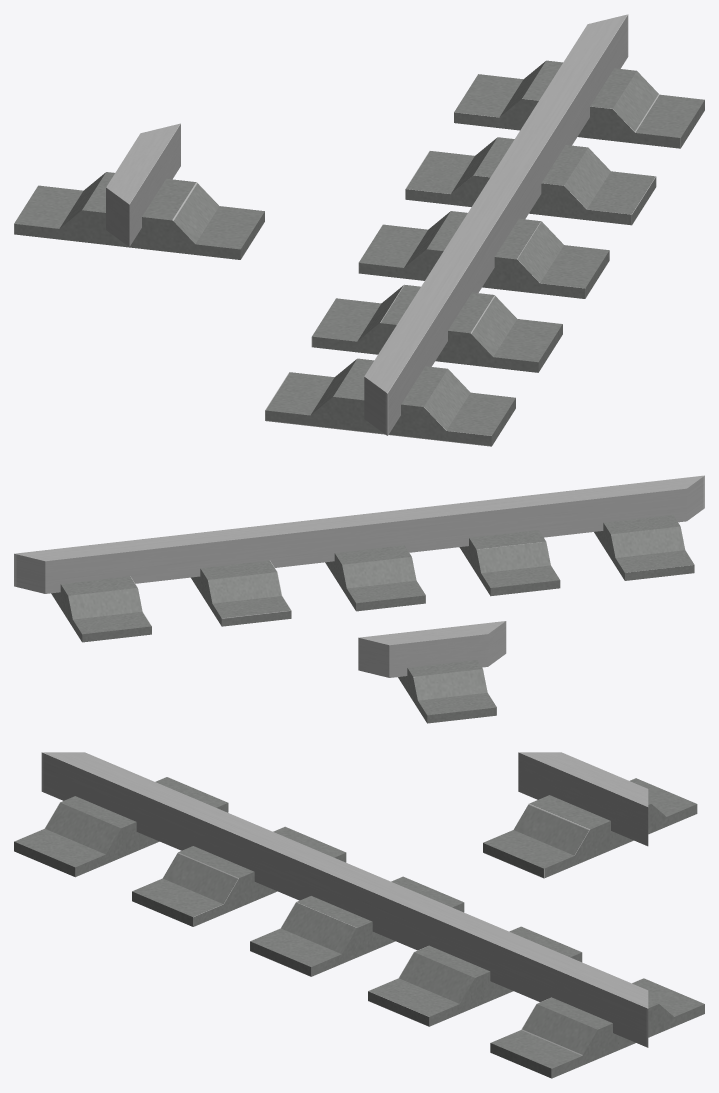
The model's file is rail_ns_turned.obj.
The picture shows the model from 3 angles, top to bottom: view 1: azimuth 30°, elevation 25°; view 2: azimuth 150°, elevation 25°; view 3: azimuth 270°, elevation 25°; orthographic projection. The views are drawn at different scales.
Visible parts, largest first — view 1: r1, b6, b1, b4, b3, b2, b5, r2; view 2: r1, r2, b2, b4, b5, b3, b1, b6; view 3: r1, b6, b5, b2, b3, b4, b1, r2.
Boxes of the visible parts, x1,y1,x2,y2 form: r1: (364, 14, 628, 435); b6: (14, 172, 264, 259); b1: (265, 358, 515, 446); b4: (405, 137, 656, 225); b3: (358, 211, 609, 298); b2: (311, 284, 562, 372); b5: (454, 60, 704, 148); r2: (106, 123, 180, 246); r1: (14, 475, 704, 593); r2: (358, 621, 506, 677); b2: (459, 530, 560, 596); b4: (191, 560, 291, 626); b5: (51, 576, 151, 642); b3: (325, 545, 425, 611); b1: (594, 515, 694, 580); b6: (398, 660, 496, 723); r1: (41, 752, 648, 1047); b6: (483, 778, 697, 878); b5: (490, 978, 704, 1078); b2: (132, 826, 346, 926); b3: (250, 876, 464, 976); b4: (368, 926, 582, 1026); b1: (14, 777, 228, 877); r2: (518, 752, 648, 846).
Size of the model in its own units: 0.9966 by 0.0938 by 0.9966.
